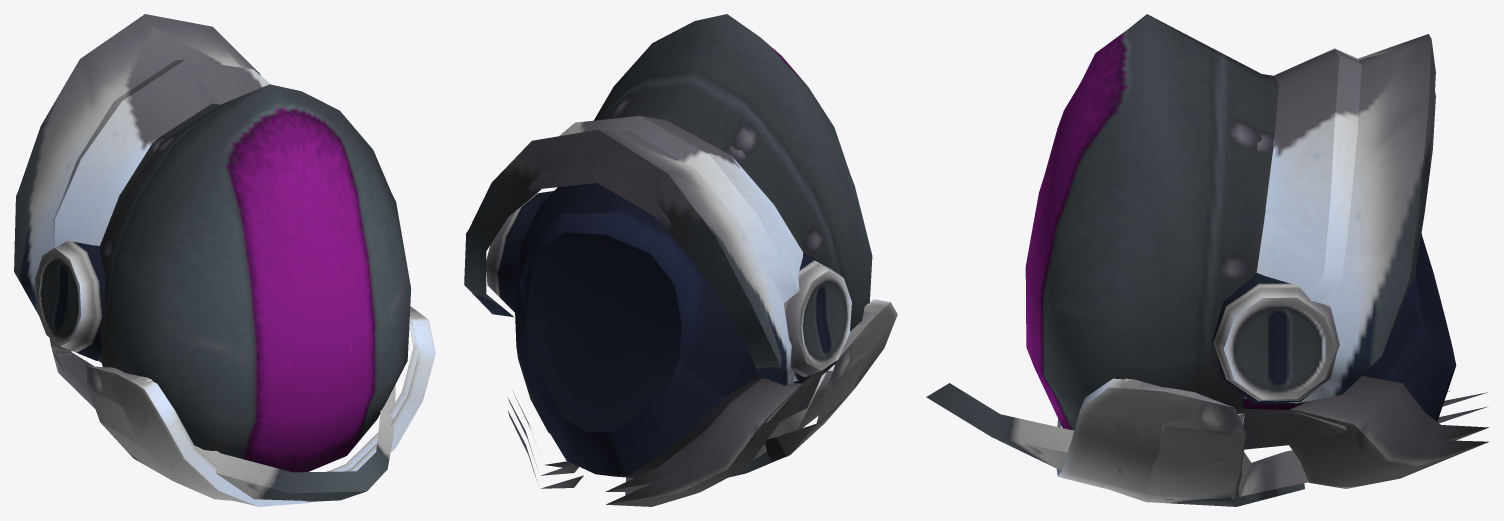
The model's file is Warden Helm.glb.
3 views of the same model, side by side, from view 1: azimuth 30°, elevation 25°; view 2: azimuth 150°, elevation 25°; view 3: azimuth 270°, elevation 25° (orthographic). The views are drawn at different scales.
Visible parts, largest first — view 1: parts.modelset-MeshSets[helm_warden_3].Mesh[0], parts.modelset-MeshSets[helm_warden_1].Mesh[0], parts.modelset-MeshSets[helm_warden_2].Mesh[0]; view 2: parts.modelset-MeshSets[helm_warden_2].Mesh[0], parts.modelset-MeshSets[helm_warden_3].Mesh[0], parts.modelset-MeshSets[helm_warden_1].Mesh[0]; view 3: parts.modelset-MeshSets[helm_warden_3].Mesh[0], parts.modelset-MeshSets[helm_warden_2].Mesh[0], parts.modelset-MeshSets[helm_warden_1].Mesh[0].
Part boxes in pixels (<box>): parts.modelset-MeshSets[helm_warden_3].Mesh[0]: <box>18,14,395,501</box>; parts.modelset-MeshSets[helm_warden_1].Mesh[0]: <box>35,103,435,506</box>; parts.modelset-MeshSets[helm_warden_2].Mesh[0]: <box>14,187,423,501</box>; parts.modelset-MeshSets[helm_warden_2].Mesh[0]: <box>464,161,884,491</box>; parts.modelset-MeshSets[helm_warden_3].Mesh[0]: <box>464,14,852,506</box>; parts.modelset-MeshSets[helm_warden_1].Mesh[0]: <box>486,114,897,488</box>; parts.modelset-MeshSets[helm_warden_3].Mesh[0]: <box>926,14,1489,496</box>; parts.modelset-MeshSets[helm_warden_2].Mesh[0]: <box>1025,91,1489,506</box>; parts.modelset-MeshSets[helm_warden_1].Mesh[0]: <box>1025,73,1450,500</box>.
Bounding box in the file's own units: 0.5068 × 0.6382 × 0.6855.
1 material, 1 textured.
